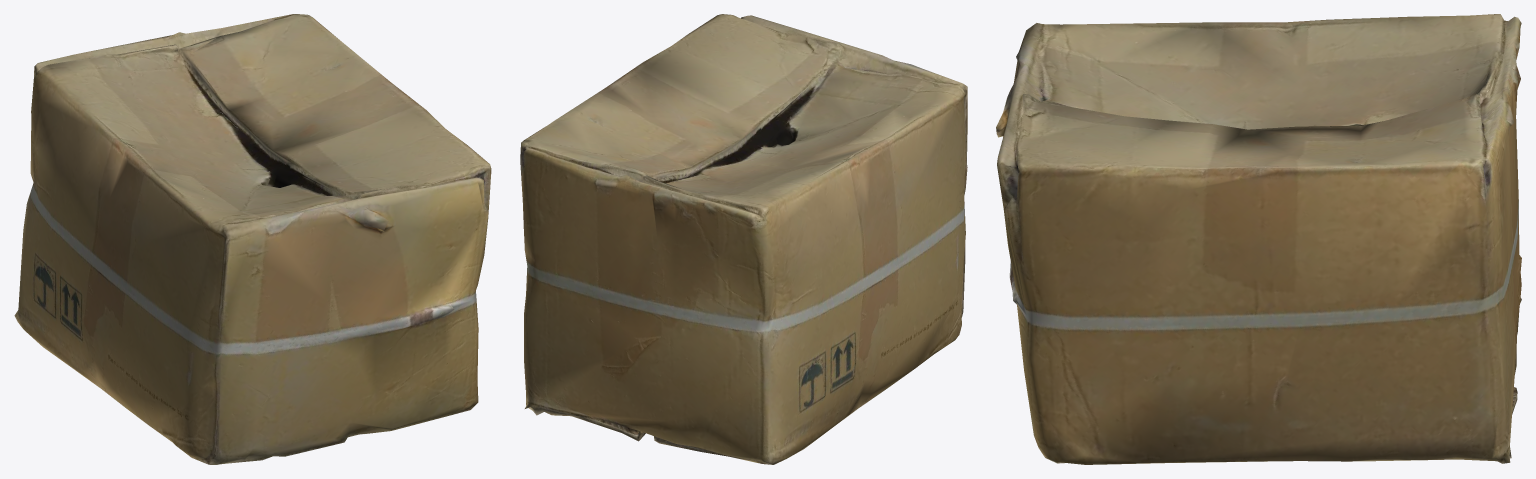
File: cardboard_box_01.glb
3 views of the same model, side by side, from view 1: azimuth 30°, elevation 25°; view 2: azimuth 150°, elevation 25°; view 3: azimuth 270°, elevation 25° (orthographic). The views are drawn at different scales.
Parts seen in each view (by area): view 1: cardboard_box_01; view 2: cardboard_box_01; view 3: cardboard_box_01.
Boxes of the visible parts, <box> form: cardboard_box_01: <box>14,14,491,464</box>; cardboard_box_01: <box>520,14,967,464</box>; cardboard_box_01: <box>996,14,1521,464</box>.
Bounding box in the file's own units: 0.3864 × 0.3407 × 0.5159.
1 material, 1 textured.
